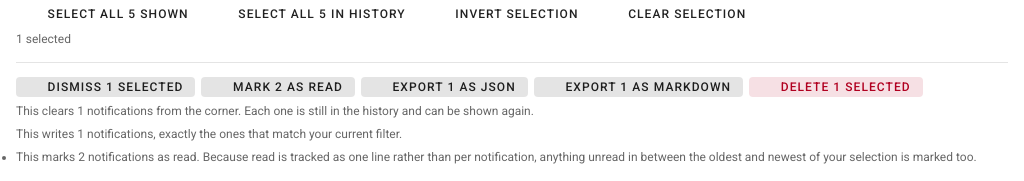
Test: mark as read › advances the watermark and reports it, then clears the selection
Click the button "Mark 2 as read": (278, 87) [202, 77, 355, 97]
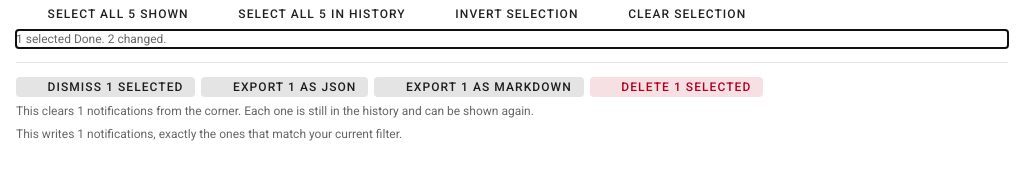
expect the text "Done. 2 changed." is shown: met, box [74, 32, 167, 46]
